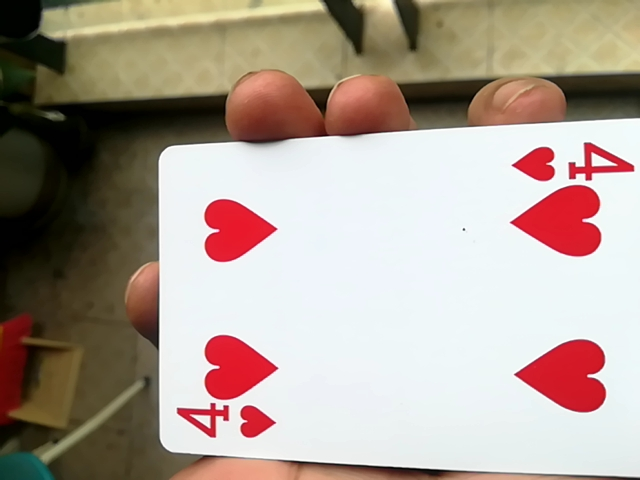hx 4: (154, 115, 636, 480)
